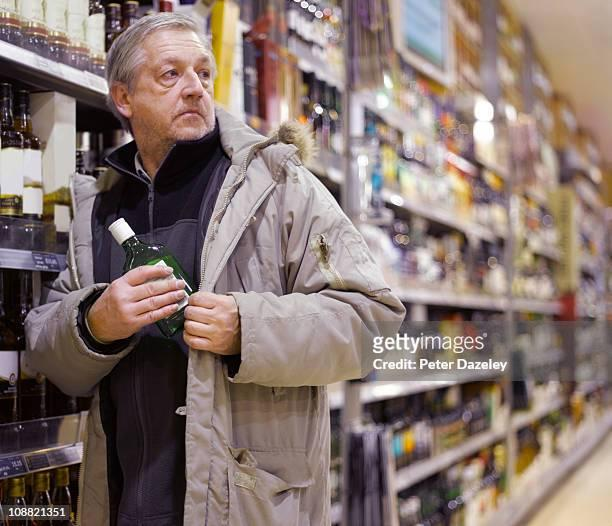shoplifting: (22, 3, 413, 526)
